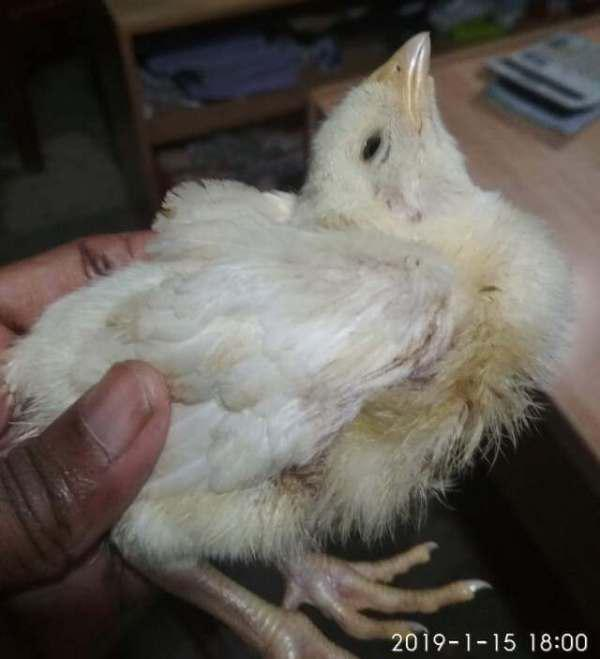AbNormal: (13, 28, 577, 659)
